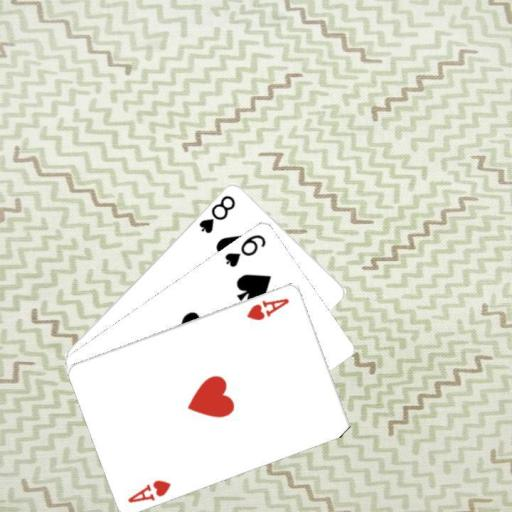6S: (222, 230, 268, 269)
8S: (196, 191, 237, 235)
AH: (124, 476, 173, 504), (243, 295, 291, 322)
